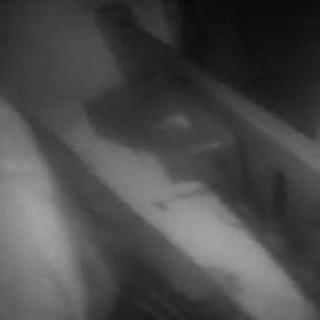other: (98, 62, 236, 184)
